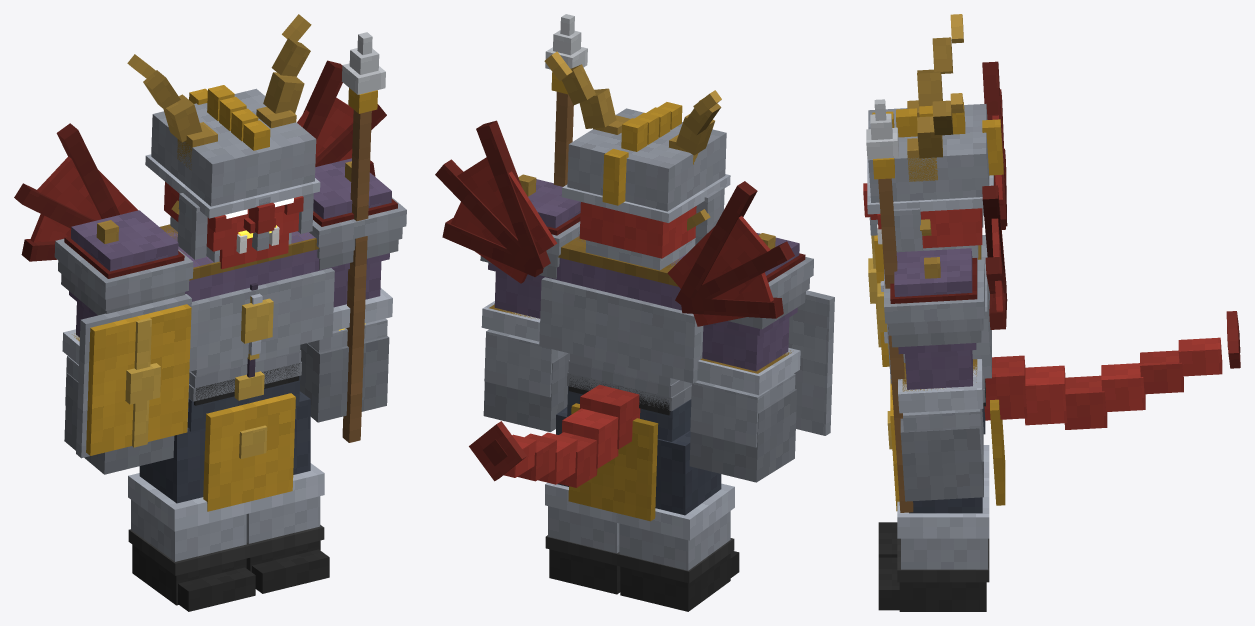
The model's file is demon_garde.glb.
The picture shows the model from 3 angles, left to right: view 1: azimuth 30°, elevation 25°; view 2: azimuth 150°, elevation 25°; view 3: azimuth 270°, elevation 25°; orthographic projection. The views are drawn at different scales.
Visible parts, largest first — view 1: Torso, ArmR, Head, LegR, ArmL, LegL, HandL; view 2: Torso, Head, ArmR, LegR, ArmL, LegL, HandL; view 3: ArmL, Torso, Head, LegL, HandL, ArmR, LegR.
Part boxes in pixels (<box>): Torso: <box>14,60,386,511</box>; ArmR: <box>54,210,193,474</box>; Head: <box>127,14,320,269</box>; LegR: <box>128,427,255,611</box>; ArmL: <box>299,158,406,422</box>; LegL: <box>246,391,329,593</box>; HandL: <box>341,32,385,442</box>; Torso: <box>435,120,794,521</box>; Head: <box>544,51,730,270</box>; ArmR: <box>689,233,834,482</box>; LegR: <box>616,431,739,611</box>; ArmL: <box>480,174,580,432</box>; LegL: <box>545,407,620,594</box>; HandL: <box>545,14,587,186</box>; ArmL: <box>884,248,984,501</box>; Torso: <box>877,61,1240,511</box>; Head: <box>863,14,1003,257</box>; LegL: <box>878,480,989,611</box>; HandL: <box>866,99,913,512</box>; ArmR: <box>868,208,983,366</box>; LegR: <box>878,445,989,557</box>.
Size of the model in its own units: 1.58 by 2.21 by 1.44.
Materials: 46 (46 with a texture image).
